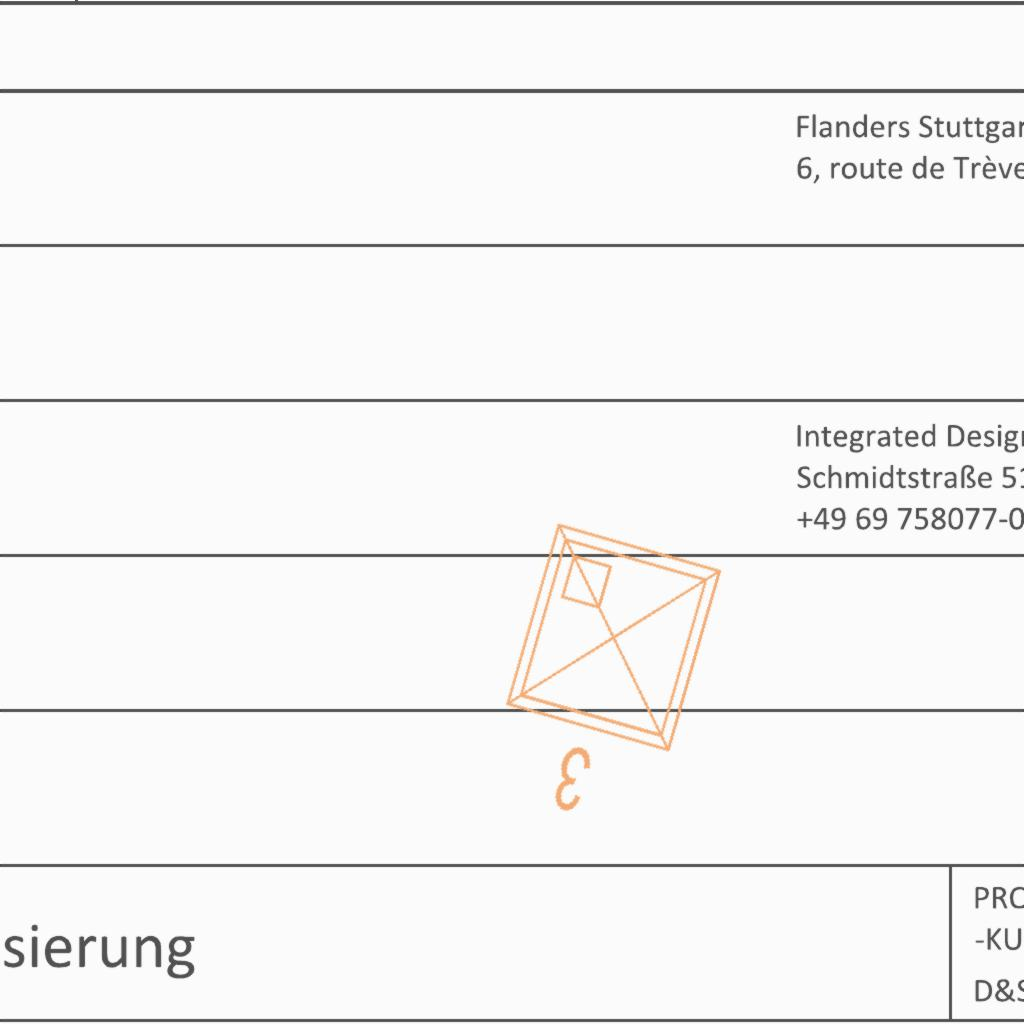Einbaudownlights_LED_Konferenzraeume: (464, 505, 748, 851)
